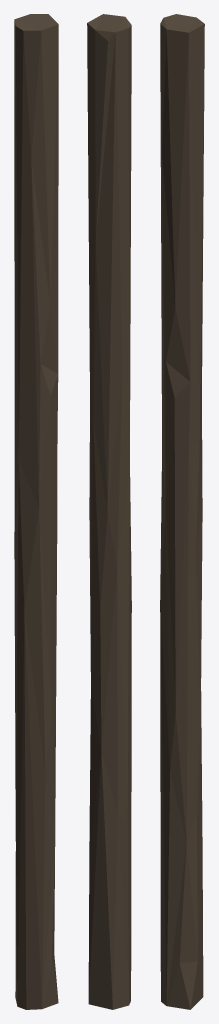
Rendered from SM_wooden_rod_01.fbx.
The picture shows the model from 3 angles, left to right: view 1: azimuth 30°, elevation 25°; view 2: azimuth 150°, elevation 25°; view 3: azimuth 330°, elevation 25°; orthographic projection.
Visible parts, largest first — view 1: wooden_rod_01; view 2: wooden_rod_01; view 3: wooden_rod_01.
Part boxes in pixels (left/top/right/bottom): wooden_rod_01: left=14, top=14, right=58, bottom=1009; wooden_rod_01: left=87, top=14, right=131, bottom=1009; wooden_rod_01: left=160, top=14, right=204, bottom=1009.
Bounding box in the file's own units: 15.97 × 393 × 16.11.
